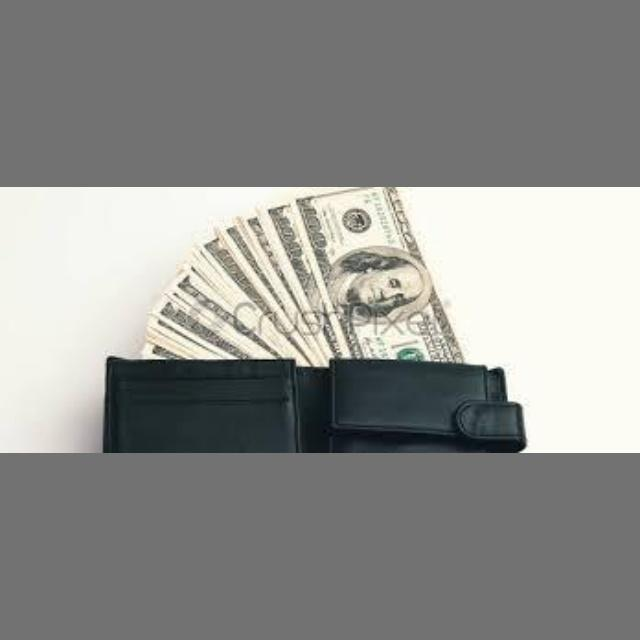Wallet: (66, 351, 518, 454)
